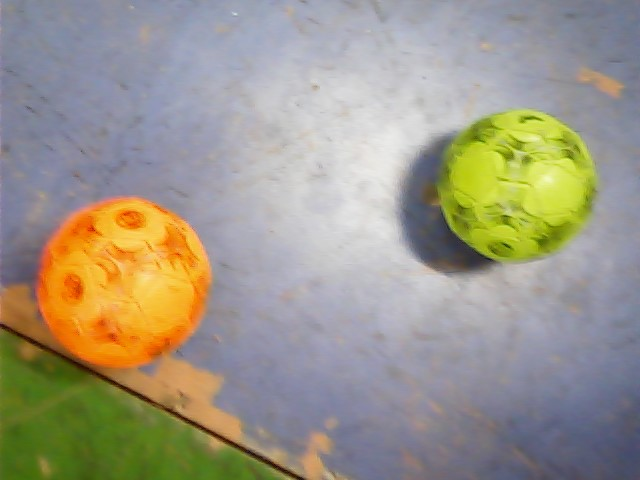Green_ball: (434, 109, 603, 270)
Orange_ball: (31, 197, 226, 377)
